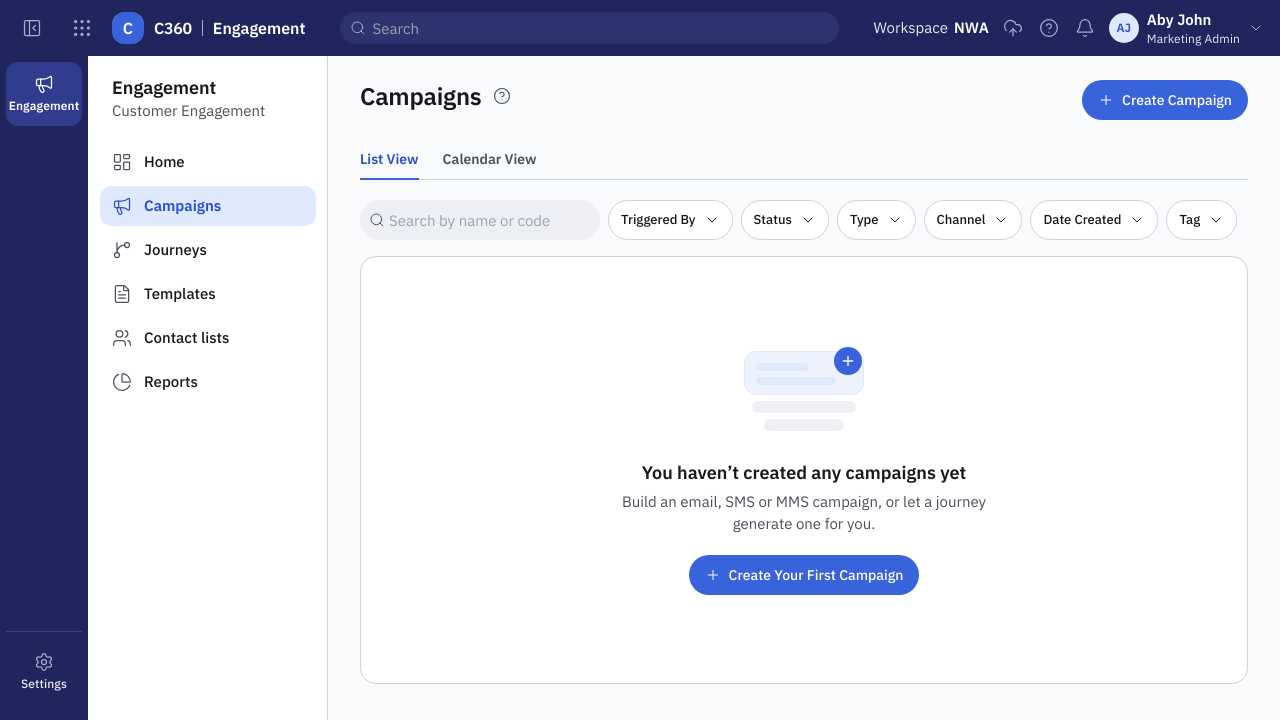
Scenario: E-Receipt offers Email or SMS as its channel (email by default), fills in Transactional, and creates an email campaign that opens at Content
Click the button "Create Campaign" at coordinates (1165, 100), box top-left (1082, 80), bottom-right (1248, 120)
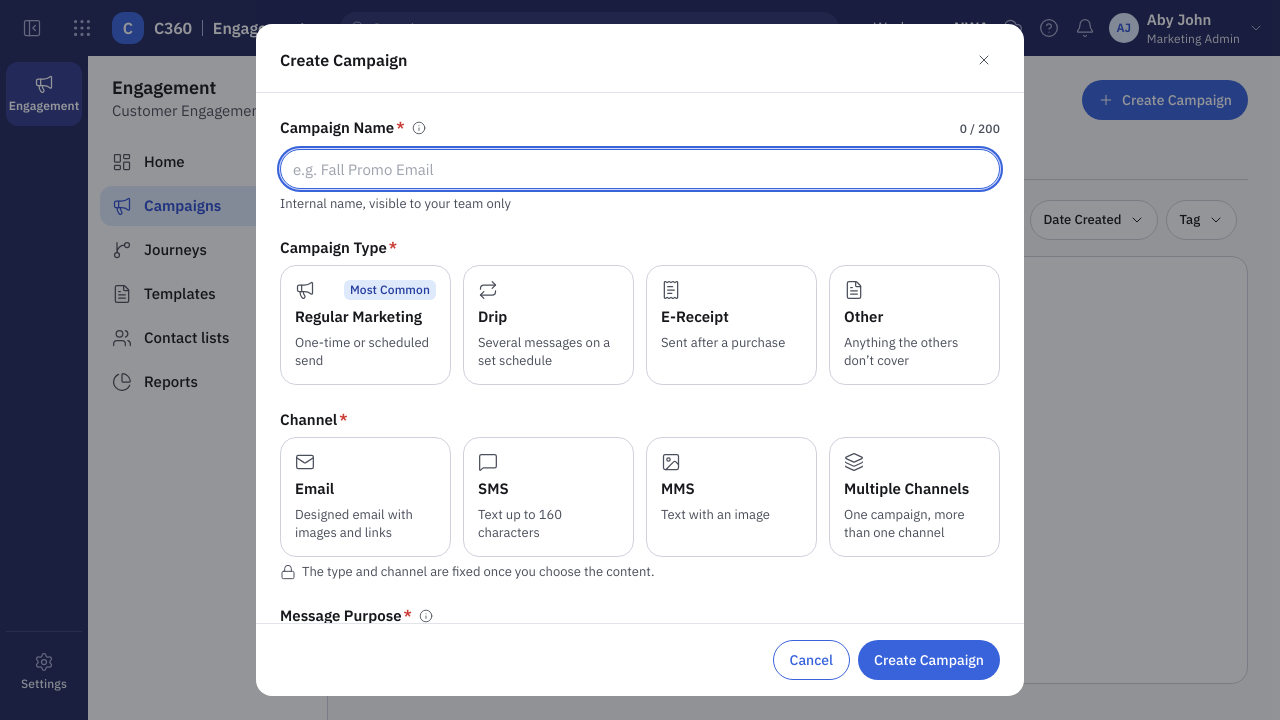
Expected: the dialog "Create Campaign" is shown, top-left (256, 24), bottom-right (1024, 696)
Type "Store receipts" into the field labelled "Campaign Name*" at coordinates (640, 169), box top-left (280, 149), bottom-right (1000, 189)
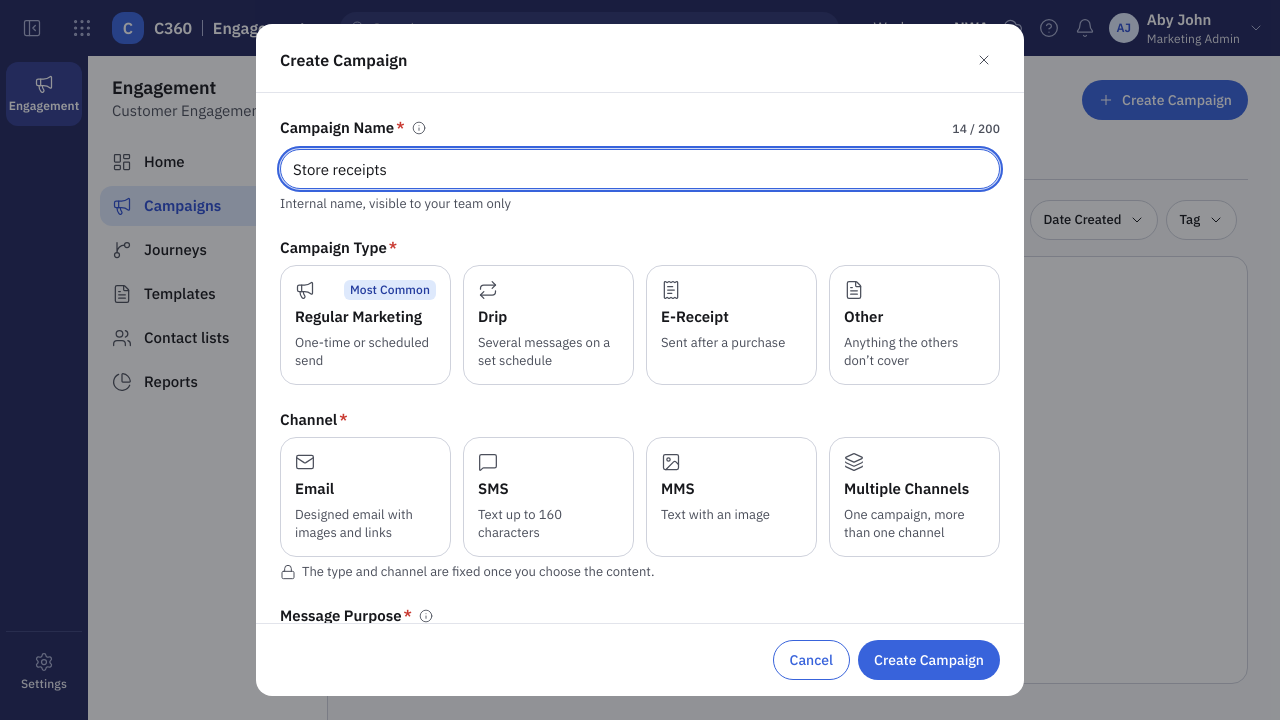
Click the radio button labelled "E-Receipt Sent after a purchase" at coordinates (732, 325), box top-left (646, 265), bottom-right (817, 385)
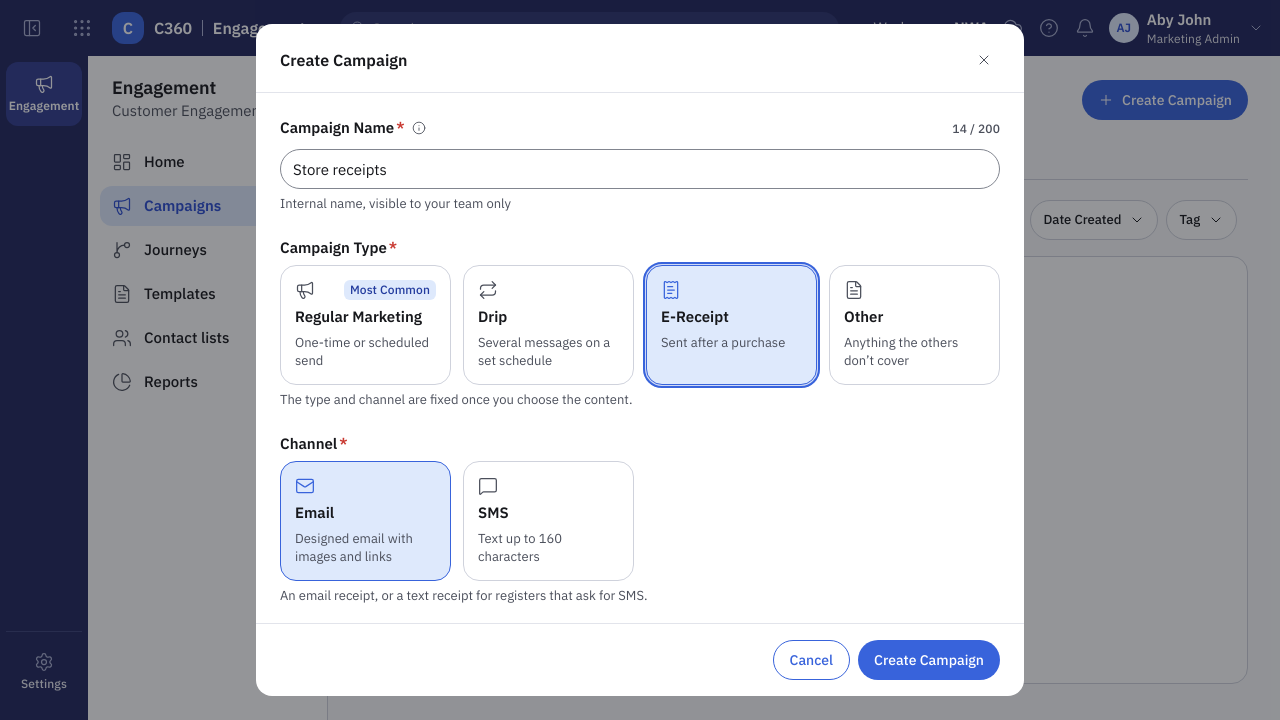
Click the button "Create Campaign" at coordinates (929, 660), box top-left (858, 640), bottom-right (1000, 680)
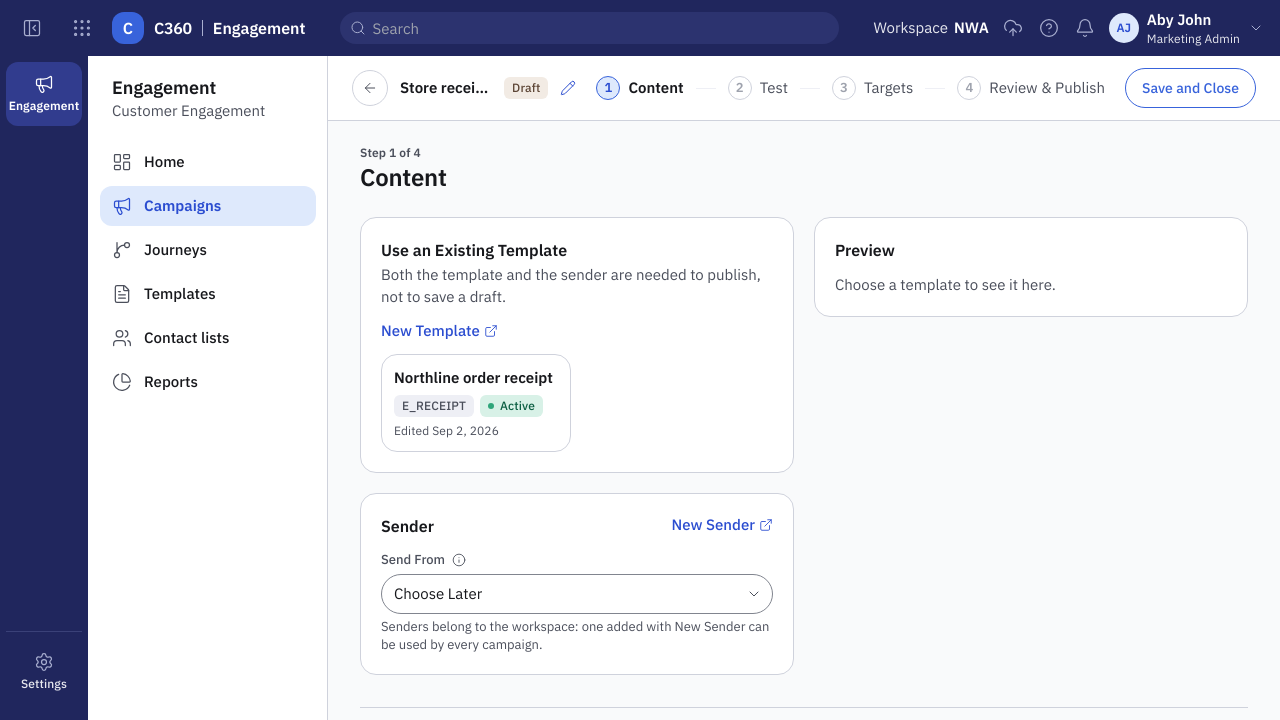
Expected: the heading "Content" is shown, top-left (360, 161), bottom-right (447, 193)
